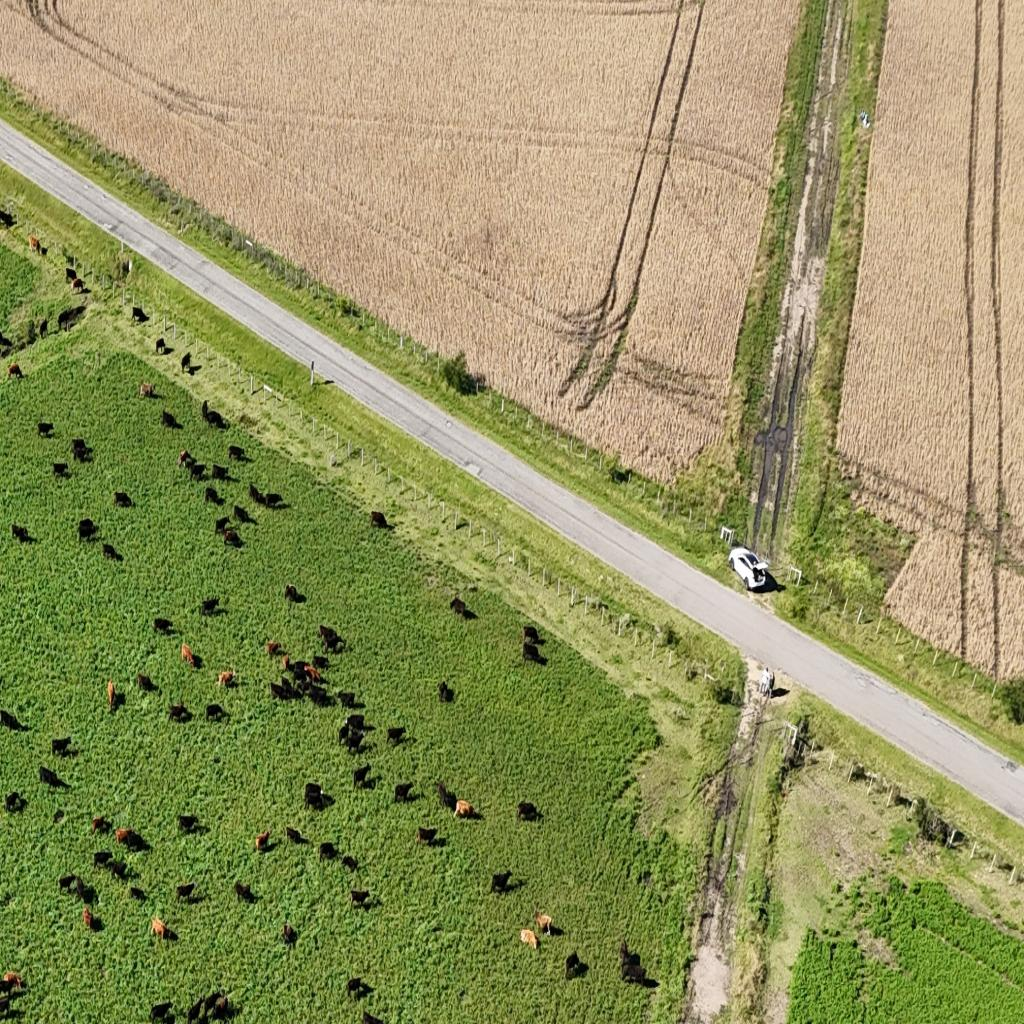cow: (38, 765, 70, 789), (318, 625, 345, 653), (620, 959, 647, 986), (57, 306, 85, 332), (619, 937, 640, 969), (121, 830, 149, 853), (565, 951, 587, 980), (437, 782, 457, 812), (205, 407, 229, 432), (0, 708, 24, 731), (522, 642, 545, 666), (211, 997, 232, 1023), (304, 782, 324, 809), (516, 801, 539, 824), (490, 870, 512, 894), (202, 991, 221, 1018), (75, 876, 92, 905), (187, 997, 205, 1024), (150, 1002, 172, 1024), (270, 680, 292, 702), (0, 998, 20, 1022), (51, 736, 72, 758), (233, 504, 255, 525), (394, 781, 414, 804), (5, 791, 25, 814), (11, 524, 34, 544), (346, 977, 366, 1000), (308, 685, 328, 708), (535, 912, 554, 936), (349, 726, 366, 752), (2, 970, 23, 991), (177, 814, 199, 834), (78, 518, 98, 540), (352, 764, 370, 788), (150, 917, 168, 941), (235, 881, 255, 902), (416, 826, 438, 845), (108, 859, 127, 881), (454, 799, 476, 818), (520, 927, 538, 950), (102, 542, 122, 562), (72, 444, 92, 464), (223, 528, 243, 548), (349, 889, 370, 908), (168, 704, 190, 722), (152, 617, 174, 635), (294, 672, 312, 694), (338, 726, 354, 750), (370, 511, 390, 530), (210, 463, 230, 482), (308, 651, 328, 670), (319, 842, 337, 863), (161, 409, 179, 430), (115, 827, 136, 845), (346, 714, 368, 731), (438, 681, 454, 704), (181, 642, 195, 668), (176, 882, 195, 901), (137, 673, 156, 692), (387, 726, 405, 746), (113, 491, 133, 509), (93, 850, 113, 868), (340, 853, 358, 873), (204, 486, 222, 506), (522, 625, 540, 645), (304, 664, 322, 684), (450, 596, 466, 618), (0, 208, 16, 230), (286, 826, 305, 844), (338, 692, 358, 709), (282, 922, 296, 946), (190, 462, 206, 483), (284, 585, 302, 603), (36, 420, 54, 438), (228, 445, 246, 463), (58, 874, 76, 892), (206, 703, 223, 722), (91, 815, 108, 834), (218, 669, 235, 688), (132, 306, 148, 326), (248, 484, 264, 504), (82, 906, 95, 930), (362, 1009, 384, 1023), (201, 597, 219, 614), (139, 381, 156, 399), (264, 492, 283, 508), (0, 332, 13, 355), (255, 830, 269, 851), (52, 462, 69, 479), (107, 679, 116, 711), (71, 435, 87, 453), (129, 886, 146, 902), (214, 517, 229, 535), (347, 697, 365, 712), (155, 336, 169, 354), (8, 363, 22, 381), (28, 235, 41, 254), (178, 448, 190, 468), (201, 400, 211, 424), (266, 640, 280, 657), (72, 418, 86, 434), (181, 352, 192, 372), (39, 318, 49, 340), (114, 690, 125, 710), (70, 278, 84, 293), (65, 268, 77, 284), (53, 809, 65, 824), (281, 654, 289, 670)
